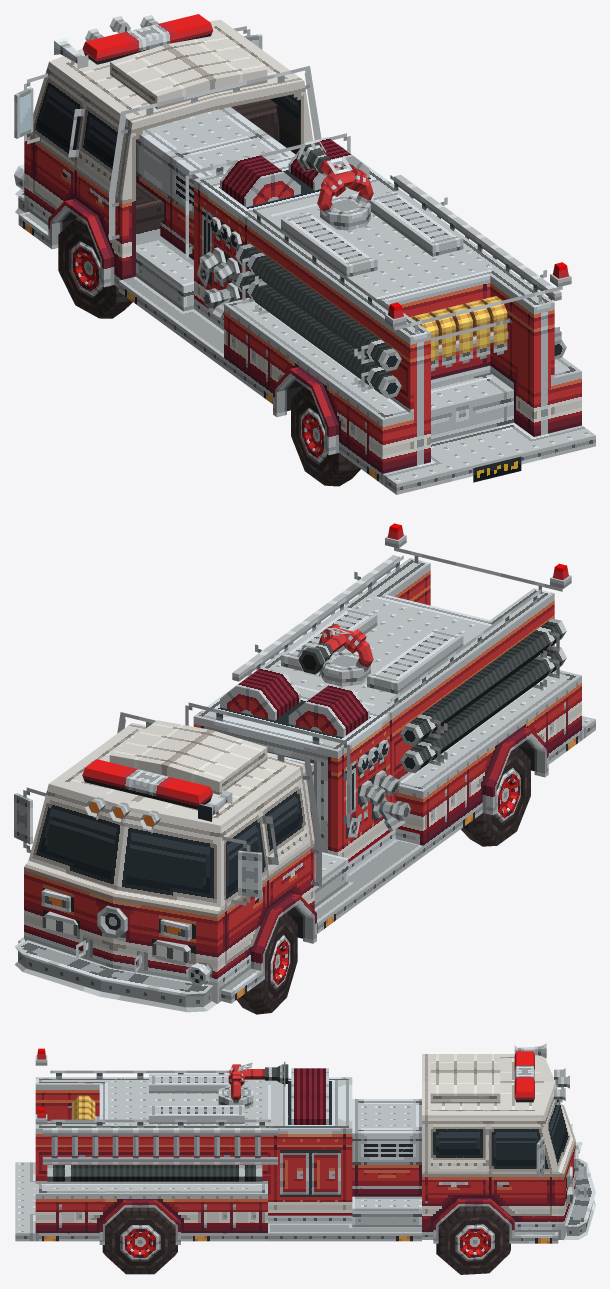
The picture shows the model from 3 angles, top to bottom: view 1: azimuth 30°, elevation 25°; view 2: azimuth 150°, elevation 25°; view 3: azimuth 270°, elevation 25°; orthographic projection. The views are drawn at different scales.
Visible parts, largest first — view 1: cuboid (×19), cylinder (×10), wheel (×2), tube (×2), ladder; view 2: cuboid (×19), cylinder (×7), wheel (×2), tube (×2), ladder; view 3: cuboid (×14), wheel (×2), cylinder (×5), ladder, tube (×2).
Boxes of the visible parts, left/top/right/bottom form: cuboid (×19): left=14, top=14, right=595, bottom=494; cylinder (×10): left=220, top=137, right=507, bottom=398; wheel (×2): left=58, top=217, right=360, bottom=486; tube (×2): left=48, top=198, right=338, bottom=455; ladder: left=394, top=174, right=561, bottom=340; cuboid (×19): left=14, top=547, right=581, bottom=1012; cylinder (×7): left=97, top=618, right=566, bottom=938; wheel (×2): left=237, top=746, right=530, bottom=1014; tube (×2): left=251, top=726, right=548, bottom=981; ladder: left=232, top=555, right=399, bottom=681; cuboid (×14): left=15, top=1051, right=595, bottom=1243; wheel (×2): left=102, top=1206, right=510, bottom=1274; cylinder (×5): left=47, top=1061, right=328, bottom=1181; ladder: left=43, top=1128, right=277, bottom=1164; tube (×2): left=99, top=1198, right=514, bottom=1244.
Size of the model in its own units: 4.5 by 4.25 by 12.53.
Materials: 1 (1 with a texture image).
